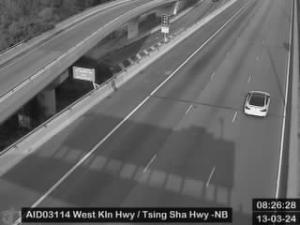vehicle: (244, 90, 270, 118)
